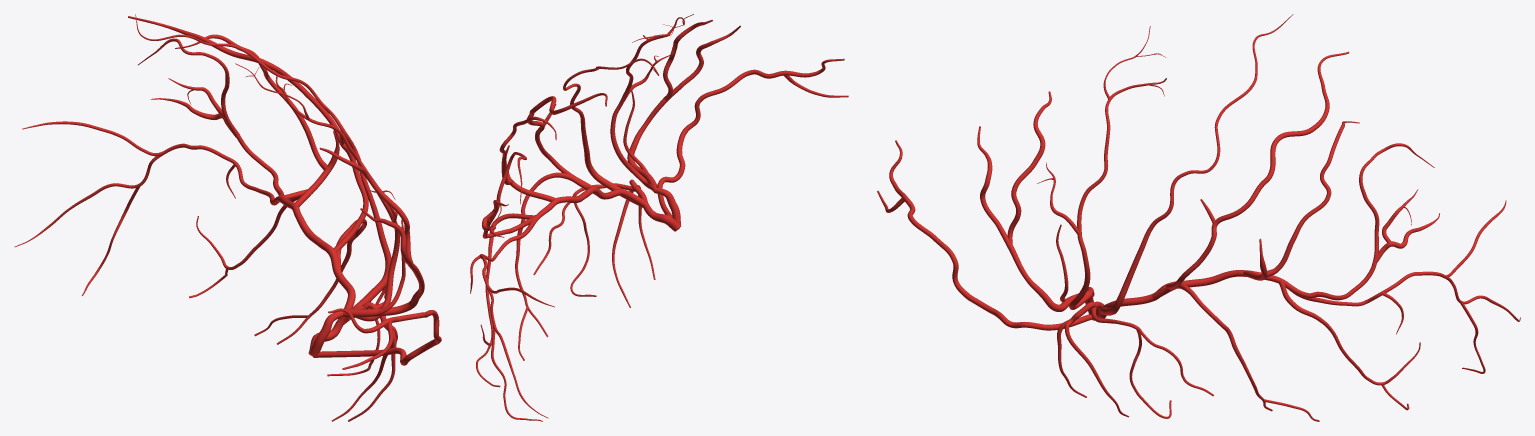
File: circulatorio-insular-branches-of-middle-cerebral-artery-m2-segment-l.glb
The picture shows the model from 3 angles, left to right: view 1: azimuth 30°, elevation 25°; view 2: azimuth 150°, elevation 25°; view 3: azimuth 270°, elevation 25°; orthographic projection. The views are drawn at different scales.
Visible parts, largest first — view 1: Prefrontal artery.l, Lateral frontobasal artery.l, Artery of central sulcus.l, Temporo-occipital branch.l, Postcentral arterial branch.l, Artery of precentral sulcus.l, Posterior parietal artery.l, Parietal branches of middle cerebral artery.l, Middle cerebral artery (M3 segment).l, Anterior temporal branch.l, Temporal branches of middle cerebral artery.l, Posterior temporal branch.l (+1 smaller); view 2: Lateral frontobasal artery.l, Prefrontal artery.l, Artery of precentral sulcus.l, Anterior temporal branch.l, Artery of central sulcus.l, Middle cerebral artery (M3 segment).l, Temporo-occipital branch.l, Posterior parietal artery.l, Postcentral arterial branch.l, Temporal branches of middle cerebral artery.l, Parietal branches of middle cerebral artery.l, Posterior temporal branch.l (+1 smaller); view 3: Prefrontal artery.l, Artery of precentral sulcus.l, Anterior temporal branch.l, Posterior parietal artery.l, Lateral frontobasal artery.l, Postcentral arterial branch.l, Artery of central sulcus.l, Temporo-occipital branch.l, Middle cerebral artery (M3 segment).l, Parietal branches of middle cerebral artery.l, Temporal branches of middle cerebral artery.l, Posterior temporal branch.l.
Part boxes in pixels (left/top/right/bottom): Prefrontal artery.l: left=319, top=147, right=424, bottom=317; Lateral frontobasal artery.l: left=313, top=308, right=441, bottom=369; Artery of central sulcus.l: left=135, top=14, right=391, bottom=324; Temporo-occipital branch.l: left=14, top=121, right=244, bottom=295; Postcentral arterial branch.l: left=128, top=16, right=368, bottom=252; Artery of precentral sulcus.l: left=235, top=63, right=405, bottom=321; Posterior parietal artery.l: left=138, top=38, right=283, bottom=196; Parietal branches of middle cerebral artery.l: left=175, top=34, right=339, bottom=207; Middle cerebral artery (M3 segment).l: left=242, top=182, right=355, bottom=319; Anterior temporal branch.l: left=327, top=285, right=397, bottom=421; Temporal branches of middle cerebral artery.l: left=254, top=219, right=366, bottom=344; Posterior temporal branch.l: left=189, top=189, right=312, bottom=298; Lateral frontobasal artery.l: left=657, top=58, right=848, bottom=229; Prefrontal artery.l: left=627, top=20, right=740, bottom=191; Artery of precentral sulcus.l: left=610, top=14, right=693, bottom=190; Anterior temporal branch.l: left=533, top=179, right=655, bottom=307; Artery of central sulcus.l: left=563, top=58, right=659, bottom=207; Middle cerebral artery (M3 segment).l: left=492, top=186, right=646, bottom=260; Temporo-occipital branch.l: left=479, top=254, right=554, bottom=421; Posterior parietal artery.l: left=482, top=152, right=536, bottom=238; Postcentral arterial branch.l: left=527, top=93, right=607, bottom=188; Temporal branches of middle cerebral artery.l: left=515, top=172, right=596, bottom=360; Parietal branches of middle cerebral artery.l: left=499, top=116, right=556, bottom=201; Posterior temporal branch.l: left=476, top=213, right=535, bottom=387; Prefrontal artery.l: left=977, top=91, right=1092, bottom=311; Artery of precentral sulcus.l: left=1037, top=26, right=1166, bottom=309; Anterior temporal branch.l: left=1057, top=301, right=1213, bottom=418; Posterior parietal artery.l: left=1280, top=143, right=1439, bottom=300; Lateral frontobasal artery.l: left=877, top=140, right=1092, bottom=330; Postcentral arterial branch.l: left=1166, top=51, right=1349, bottom=289; Artery of central sulcus.l: left=1099, top=14, right=1293, bottom=315; Temporo-occipital branch.l: left=1364, top=200, right=1520, bottom=373; Middle cerebral artery (M3 segment).l: left=1103, top=270, right=1365, bottom=307; Parietal branches of middle cerebral artery.l: left=1243, top=121, right=1359, bottom=280; Temporal branches of middle cerebral artery.l: left=1152, top=283, right=1319, bottom=421; Posterior temporal branch.l: left=1278, top=280, right=1420, bottom=410.
Size of the model in its own units: 0.0601 by 0.1046 by 0.1733.
